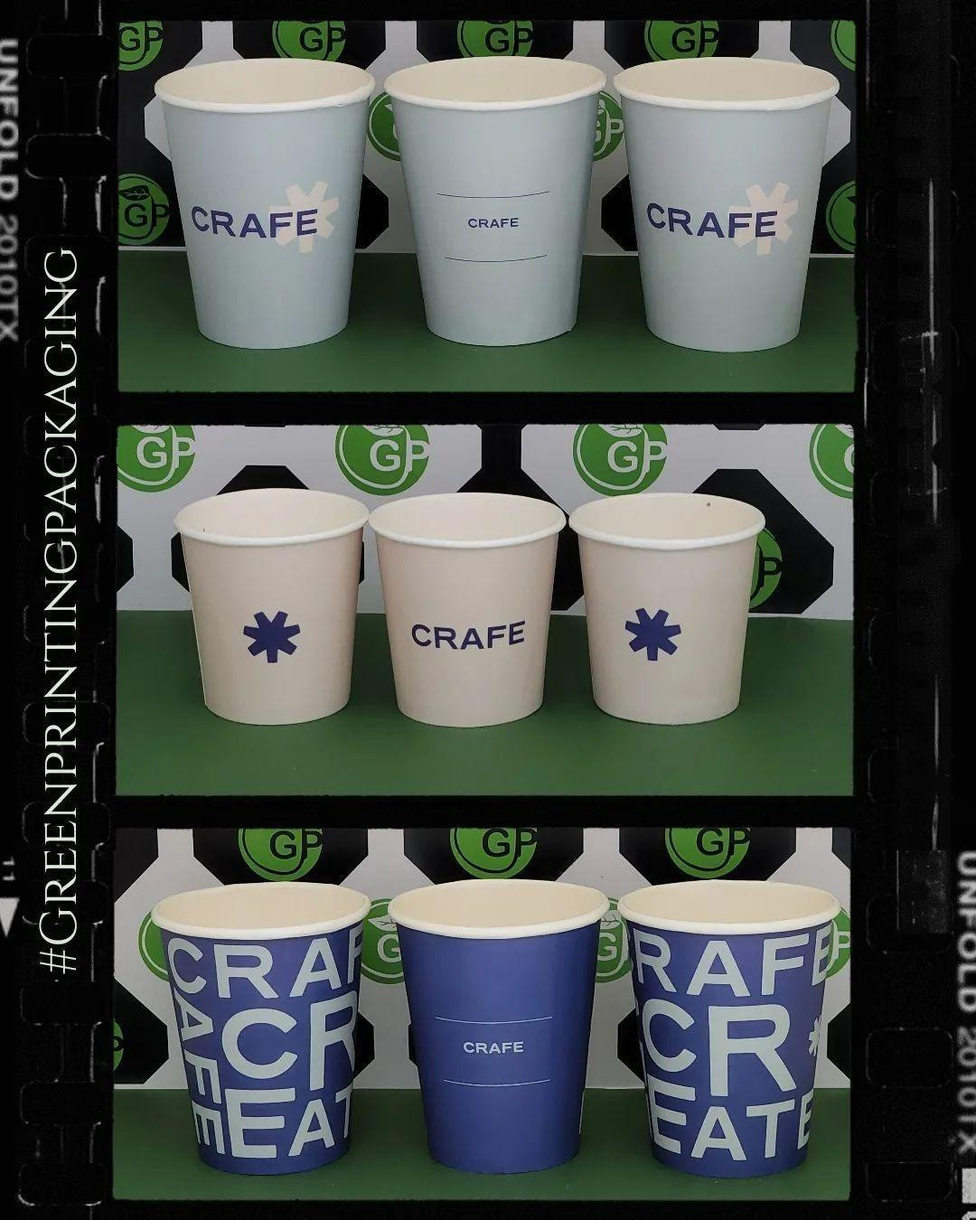cup-disposable: (612, 43, 859, 367), (139, 46, 385, 361), (383, 41, 608, 369), (384, 870, 617, 1181), (615, 868, 845, 1178), (153, 875, 380, 1180), (364, 487, 569, 734), (169, 480, 364, 736), (574, 483, 774, 729)
